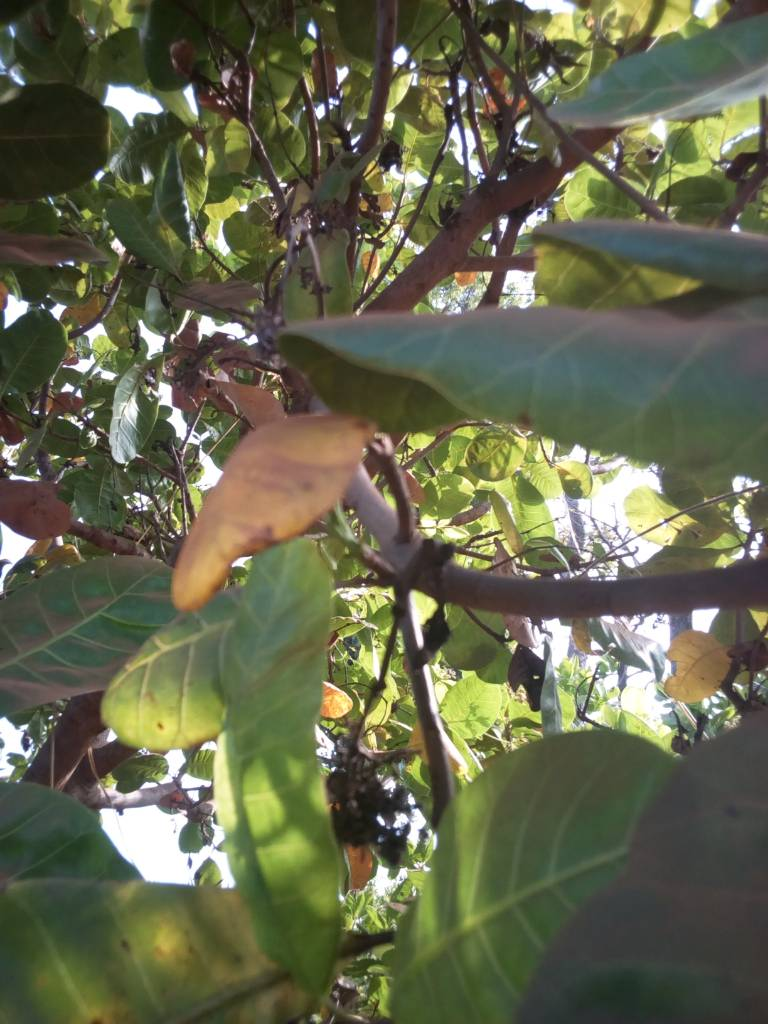Dessèchement des bourgeons: (161, 328, 305, 408), (330, 730, 411, 861), (299, 194, 393, 239)
